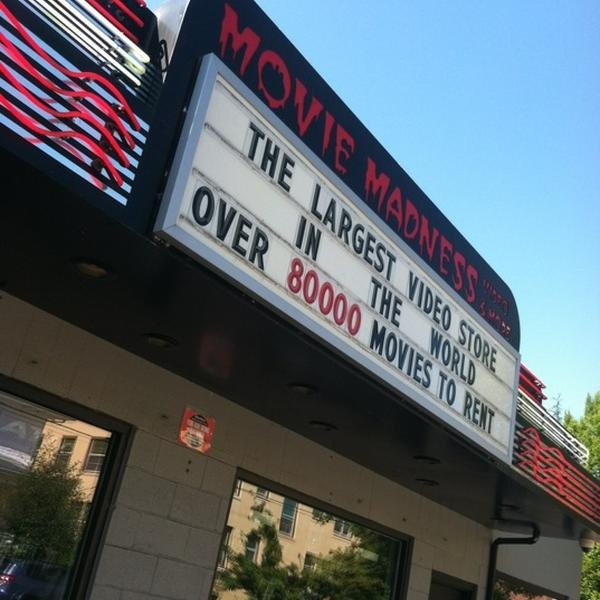text: (241, 1, 256, 181), (257, 1, 272, 181), (273, 1, 288, 181), (289, 1, 304, 181), (305, 1, 320, 181), (321, 1, 336, 181), (337, 1, 352, 181), (226, 1, 240, 181), (369, 156, 384, 308), (385, 156, 400, 308), (401, 156, 416, 308), (417, 156, 432, 308), (433, 156, 448, 308), (449, 156, 464, 308), (465, 156, 480, 308), (321, 183, 336, 285), (337, 183, 352, 285), (353, 183, 368, 285), (369, 183, 384, 285), (209, 181, 224, 273), (225, 181, 240, 273), (241, 181, 256, 273), (257, 181, 272, 273), (385, 183, 398, 285), (305, 254, 320, 339), (321, 254, 336, 339), (337, 254, 352, 339), (353, 254, 367, 339), (257, 121, 272, 194), (273, 121, 288, 194), (385, 318, 400, 391), (401, 318, 416, 391), (417, 318, 432, 391), (353, 1, 359, 181), (417, 269, 432, 333), (433, 269, 448, 333), (433, 325, 448, 388), (449, 325, 464, 388), (465, 316, 480, 374), (481, 316, 496, 374), (294, 254, 304, 339), (199, 181, 208, 273), (465, 325, 478, 388), (385, 276, 400, 330), (497, 297, 513, 342), (481, 391, 497, 436), (305, 216, 320, 262), (481, 297, 496, 342), (289, 121, 298, 194), (375, 318, 384, 391), (466, 391, 480, 436), (373, 276, 384, 330), (17, 414, 32, 448), (33, 414, 48, 448), (497, 278, 511, 313), (316, 183, 320, 285), (410, 269, 416, 333), (251, 121, 256, 194), (193, 430, 209, 452), (486, 278, 496, 313), (439, 370, 448, 408), (449, 370, 458, 408), (449, 269, 454, 333), (481, 156, 483, 308), (193, 419, 208, 435), (273, 181, 275, 273), (461, 316, 464, 374), (401, 276, 404, 330), (433, 318, 435, 391), (186, 430, 192, 452), (497, 316, 499, 374), (13, 414, 16, 448), (302, 216, 304, 262), (321, 216, 323, 262), (209, 419, 213, 435), (189, 419, 192, 435)
